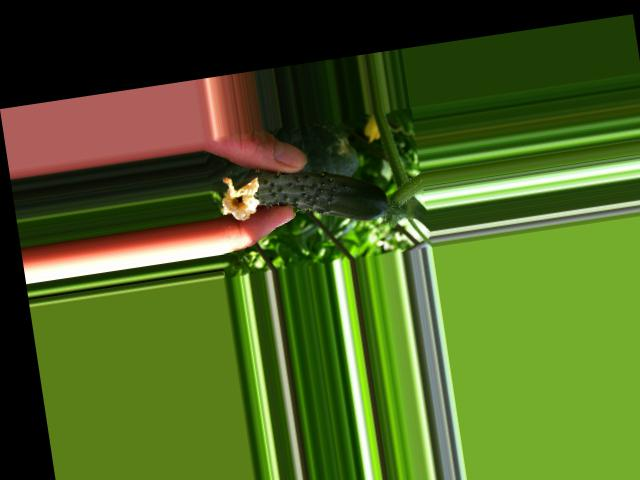cucumber: (218, 153, 390, 240)
